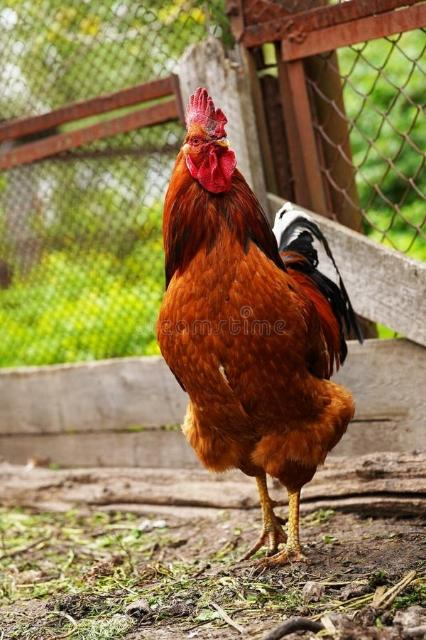Chicken: (155, 86, 362, 570)
